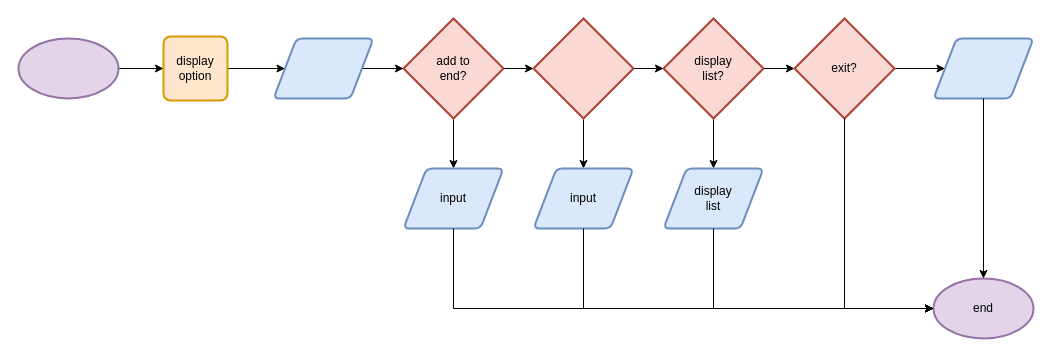
The diagram is 1051 pixels wide and 356 high, and some of its shapes have lost their labels. Each missing label, with the centre of its shape:
"add to start?" goes at [583,68].
"invalid option" goes at [983,68].
"select option" goes at [323,68].
"start" goes at [68,68].
